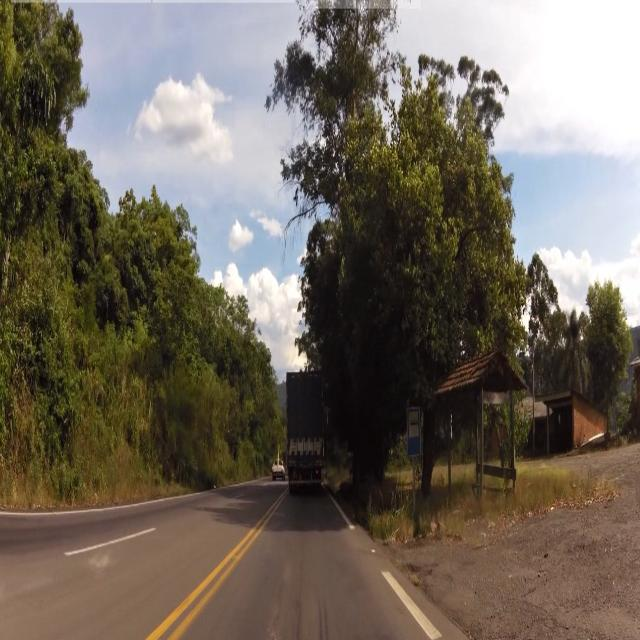S-14: (406, 407, 423, 463)
